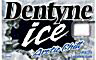grozi_22: (0, 0, 96, 60)
